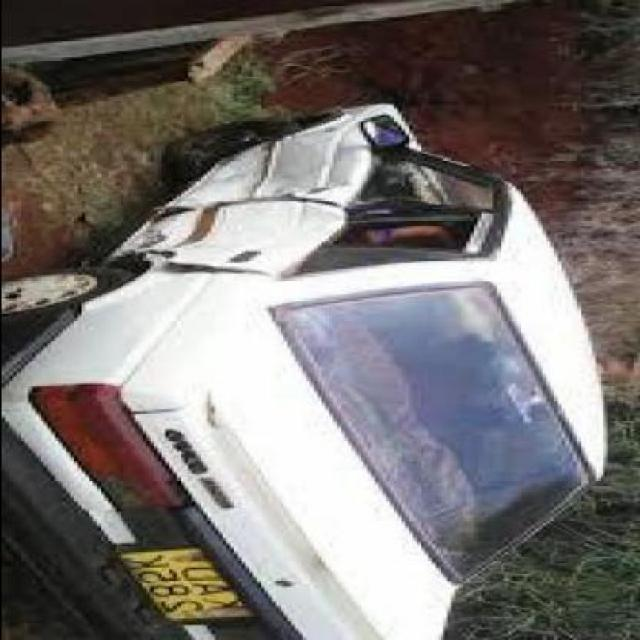damage: (124, 112, 504, 275)
